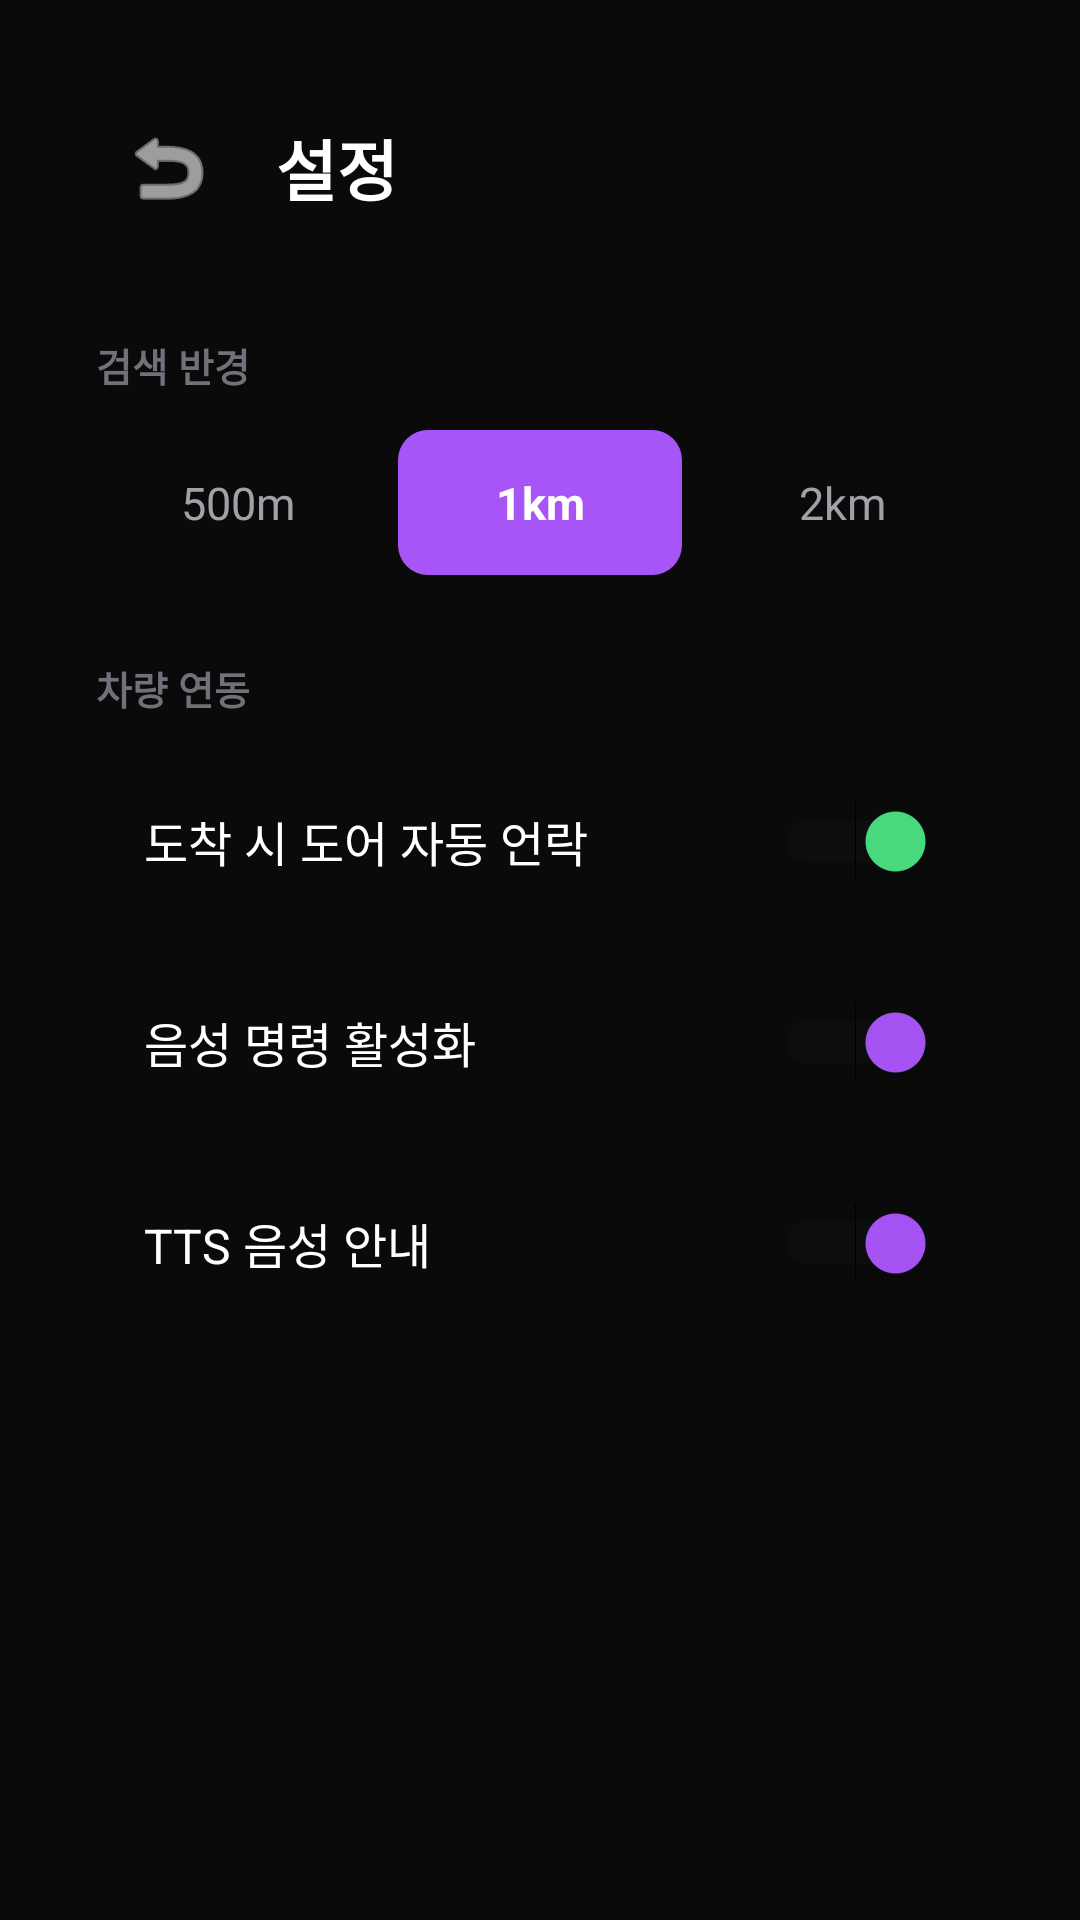

Named icons in this screenshot (1080px×1920px) and their centers, point (x, y):
Back: point (169, 168)
